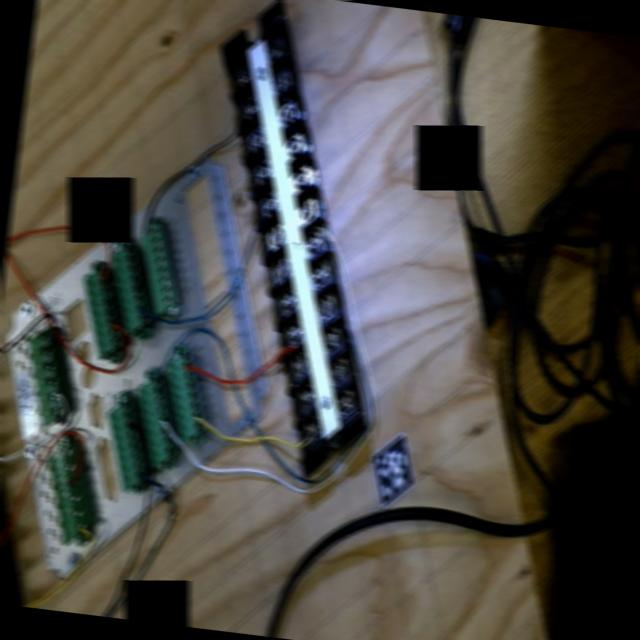Phillips_Block: (212, 0, 375, 479)
Terminal_1: (45, 440, 92, 545), (25, 326, 67, 427)
Terminal_2: (104, 396, 149, 493), (107, 240, 152, 336), (163, 347, 207, 444), (134, 372, 178, 469), (80, 264, 124, 360)
